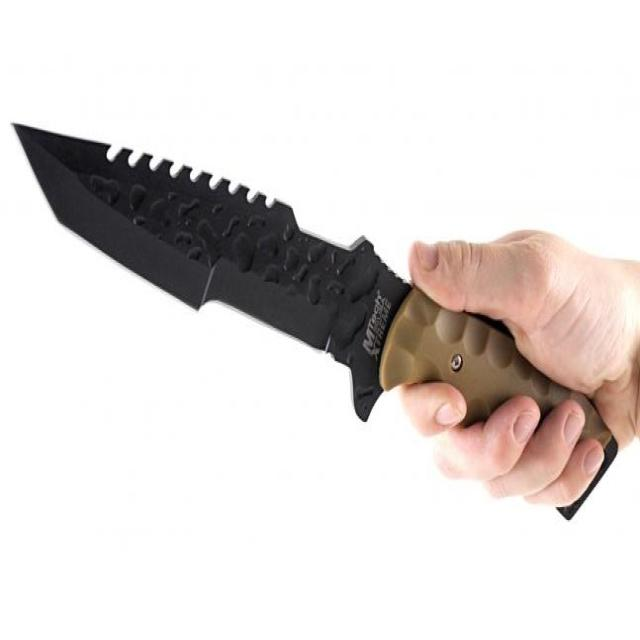knife: (11, 118, 621, 521)
